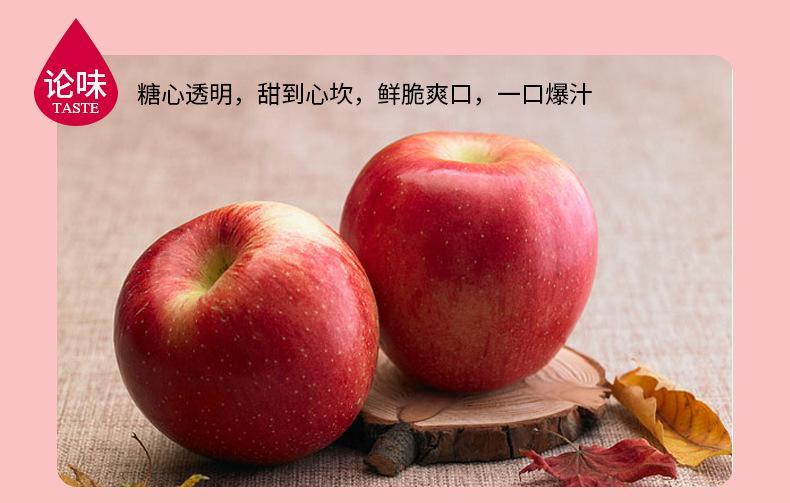apple: (110, 198, 379, 467), (337, 129, 598, 406)
